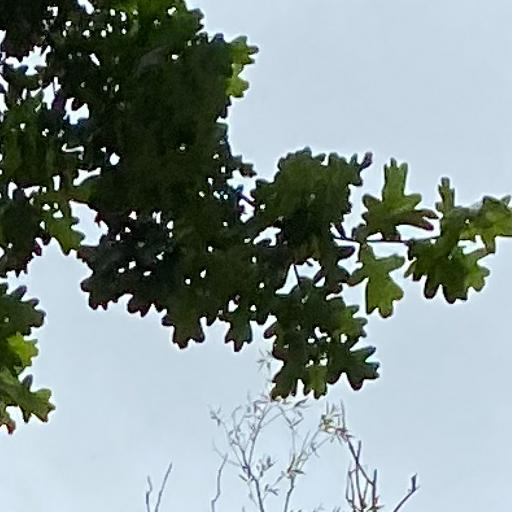tree: (1, 1, 512, 436), (146, 349, 421, 512)
